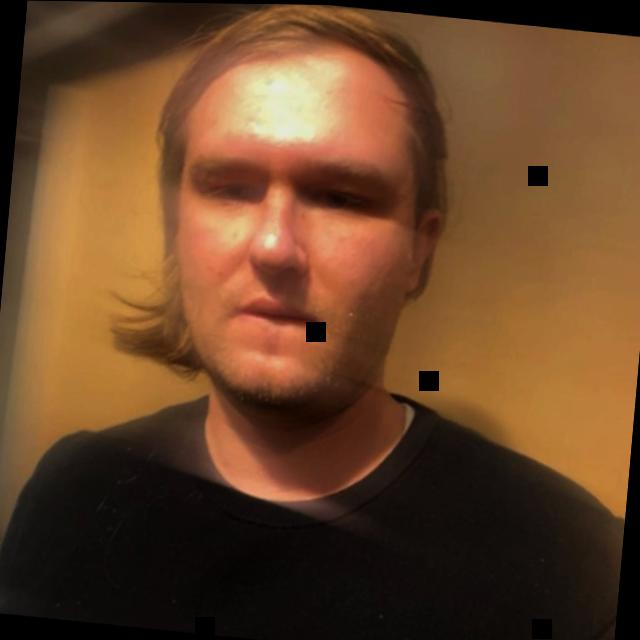NO-Mask: (80, 1, 471, 536)
